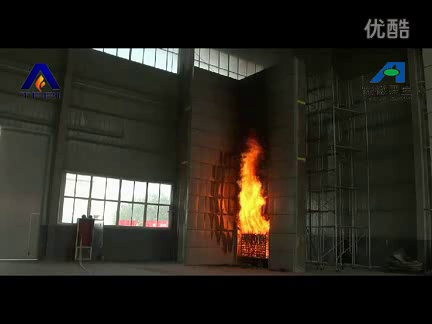fire: (236, 139, 272, 235)
